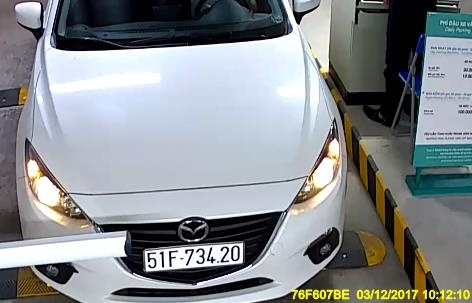plate: (143, 245, 247, 269)
